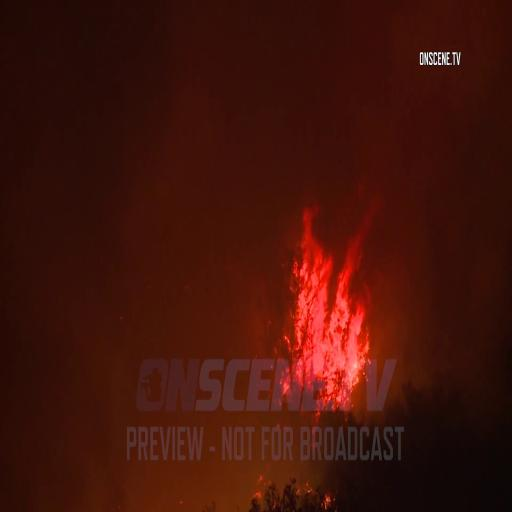fire: (282, 220, 366, 419)
